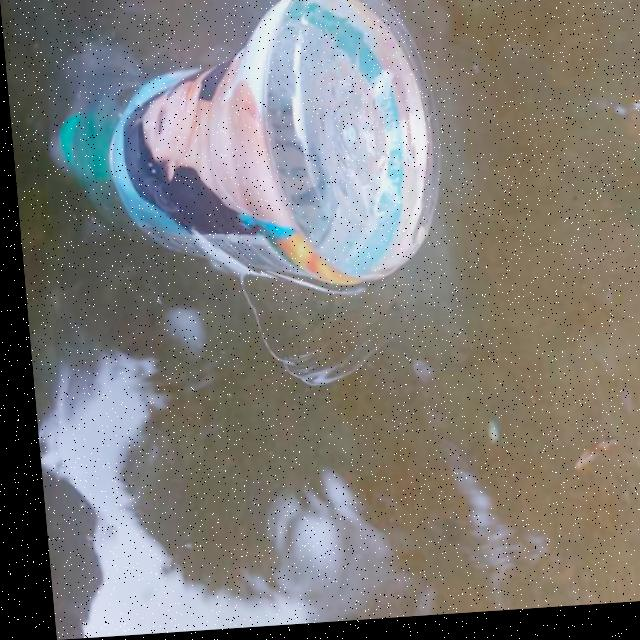waterbottle: (1, 0, 474, 308)
